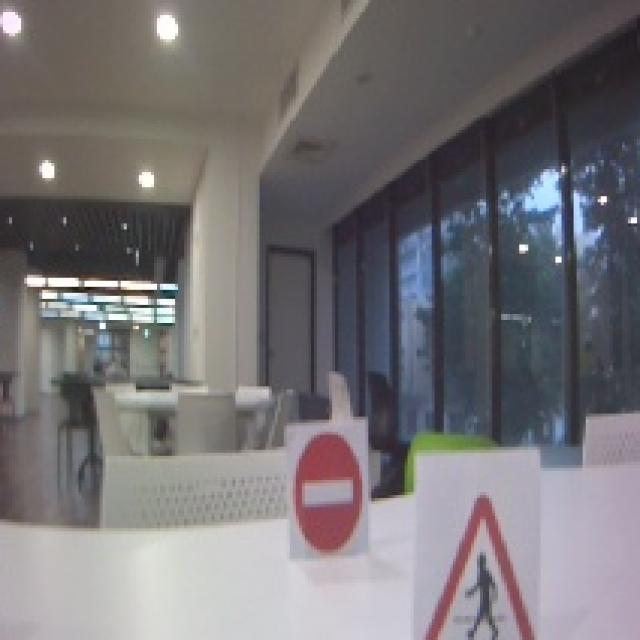DoNotEnterSign: (294, 432, 364, 556)
